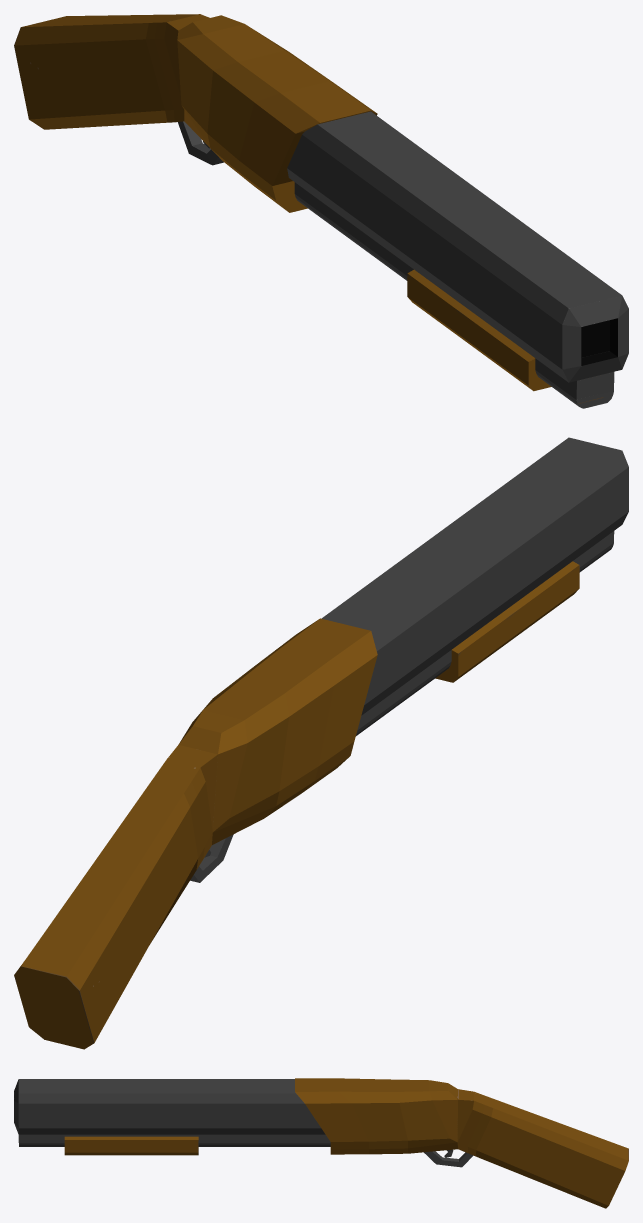
File: Shotgun.fbx
3 renders of one model, top to bottom at view 1: azimuth 30°, elevation 25°; view 2: azimuth 150°, elevation 25°; view 3: azimuth 270°, elevation 25°, orthographic. The views are drawn at different scales.
Parts seen in each view (by area): view 1: Shotgun; view 2: Shotgun; view 3: Shotgun.
Boxes of the visible parts, x1,y1,x2,y2 form: Shotgun: (14, 14, 628, 408); Shotgun: (14, 437, 628, 1049); Shotgun: (14, 1078, 628, 1208).
Size of the model in its own units: 79.46 by 198 by 932.
